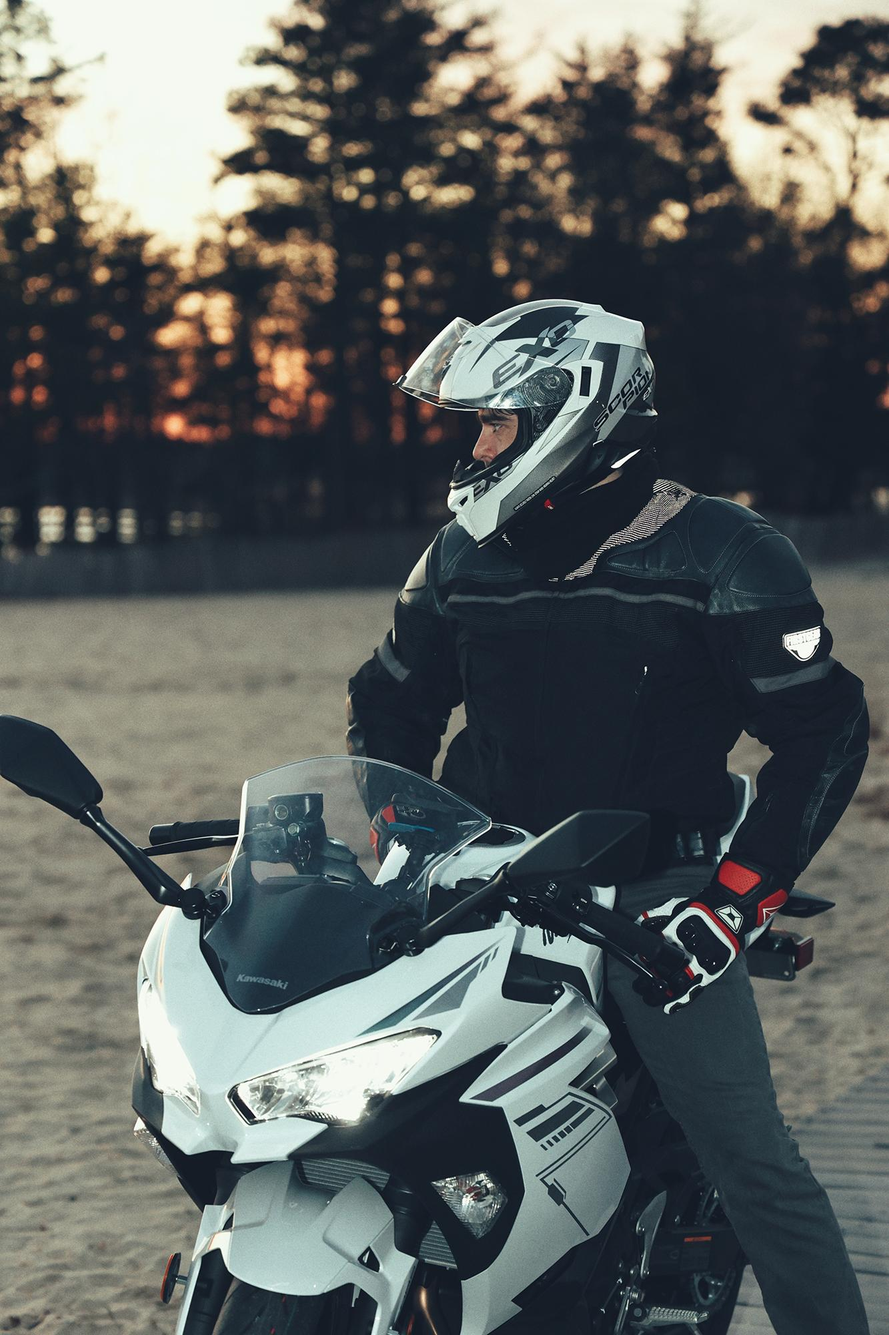helmet: (390, 297, 660, 552)
